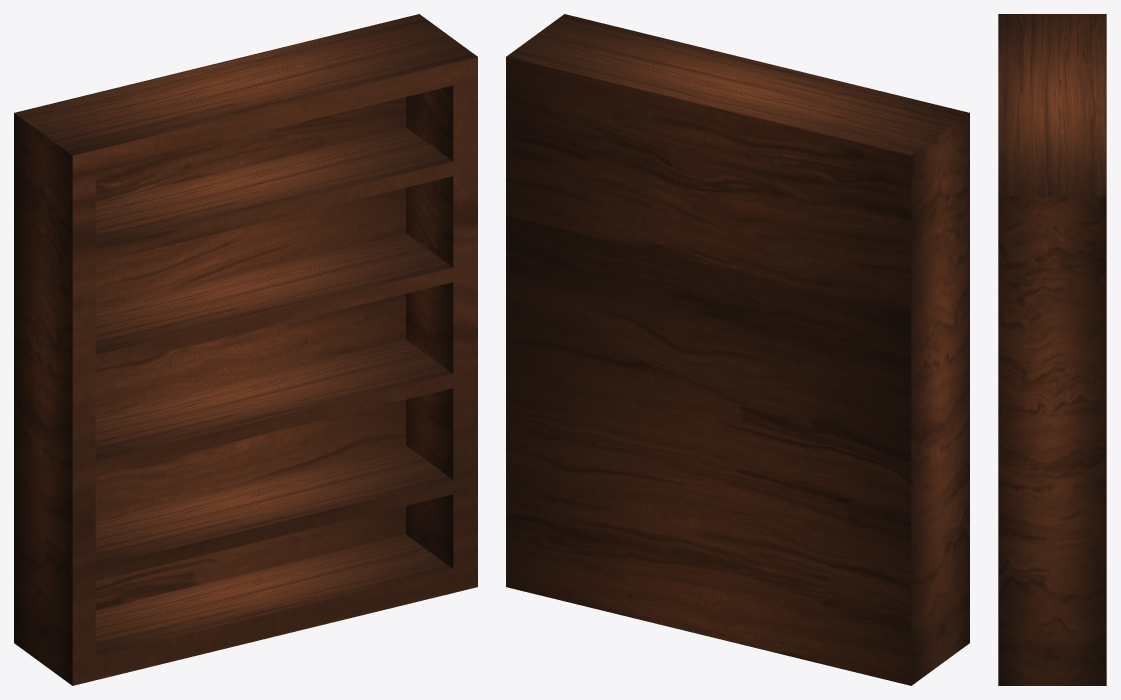
Rendered from Bookshelf.fbx.
The picture shows the model from 3 angles, left to right: view 1: azimuth 30°, elevation 25°; view 2: azimuth 150°, elevation 25°; view 3: azimuth 270°, elevation 25°; orthographic projection. The views are drawn at different scales.
Visible parts, largest first — view 1: pCube1; view 2: pCube1; view 3: pCube1.
Boxes of the visible parts, box(x1,y1,x2,y2) form: pCube1: box(14, 14, 477, 685); pCube1: box(506, 14, 969, 685); pCube1: box(998, 14, 1106, 685).
Size of the model in its own units: 8 by 10 by 2.
2 materials, 2 textured.
